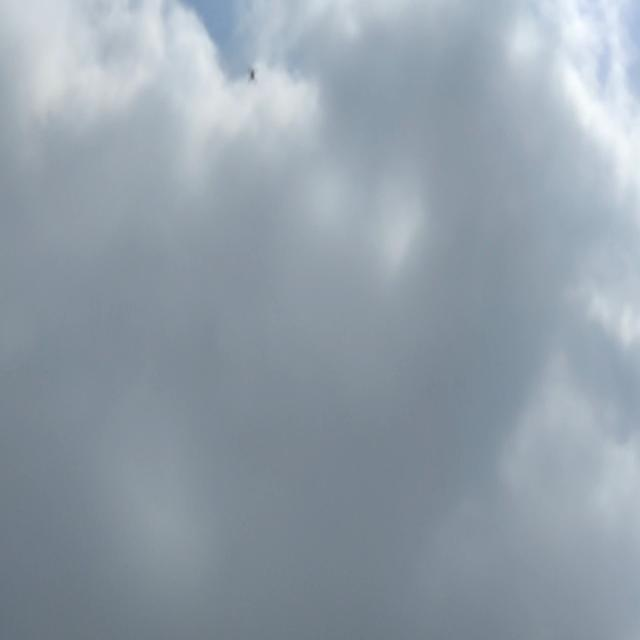drone: (243, 62, 260, 86)
